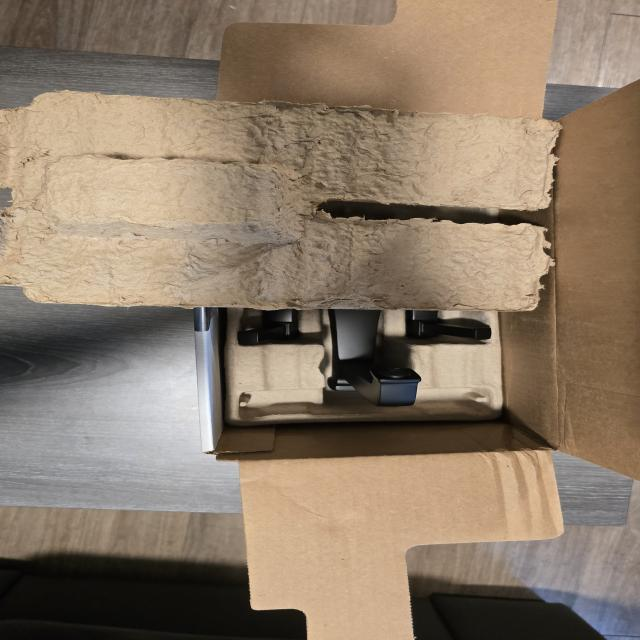9o: (328, 309, 421, 407), (406, 310, 491, 340), (238, 309, 299, 344)
